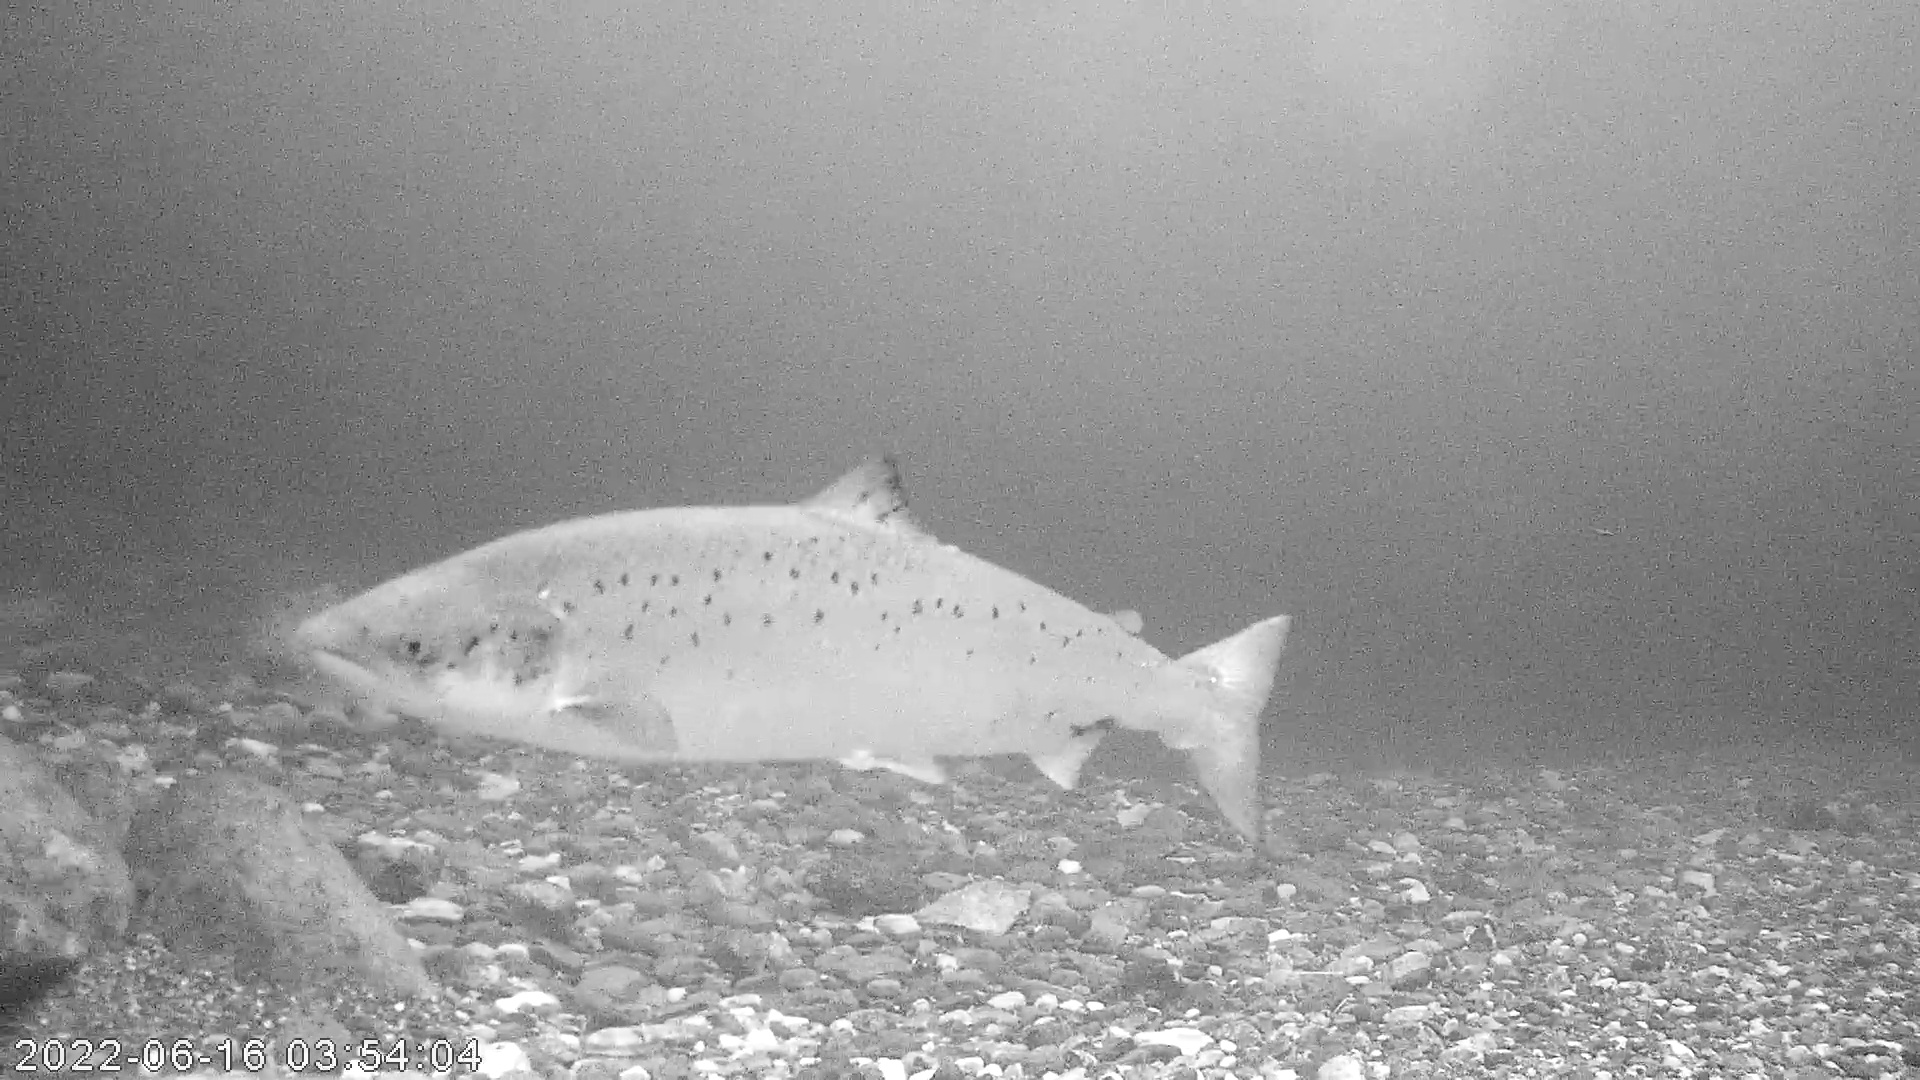salmon: (293, 448, 1295, 844)
